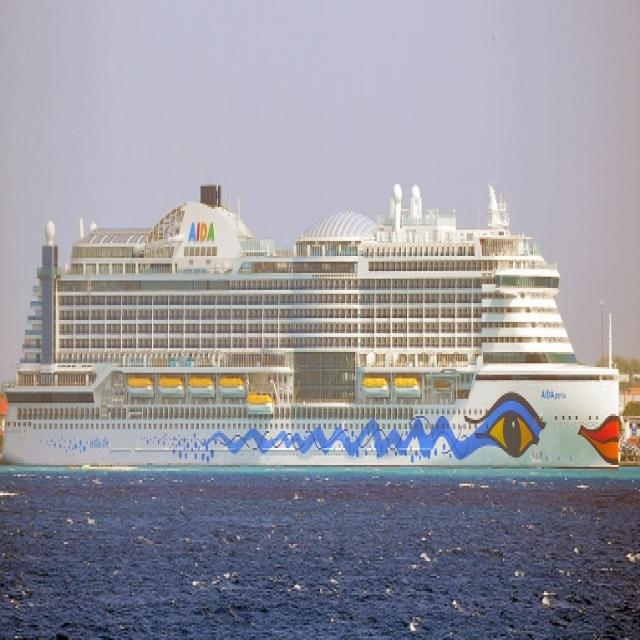cruises: (3, 172, 636, 498)
